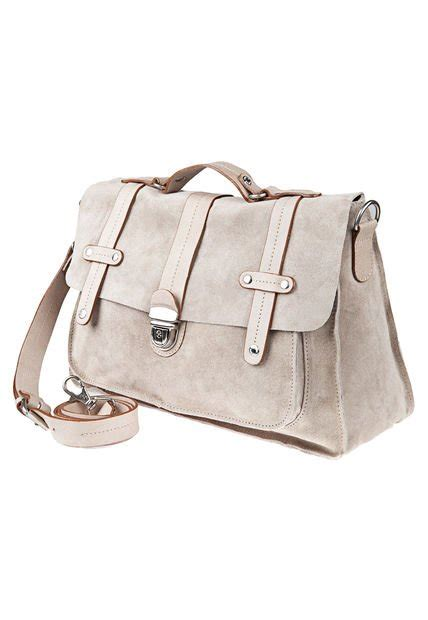gamuza: (65, 177, 415, 450)
